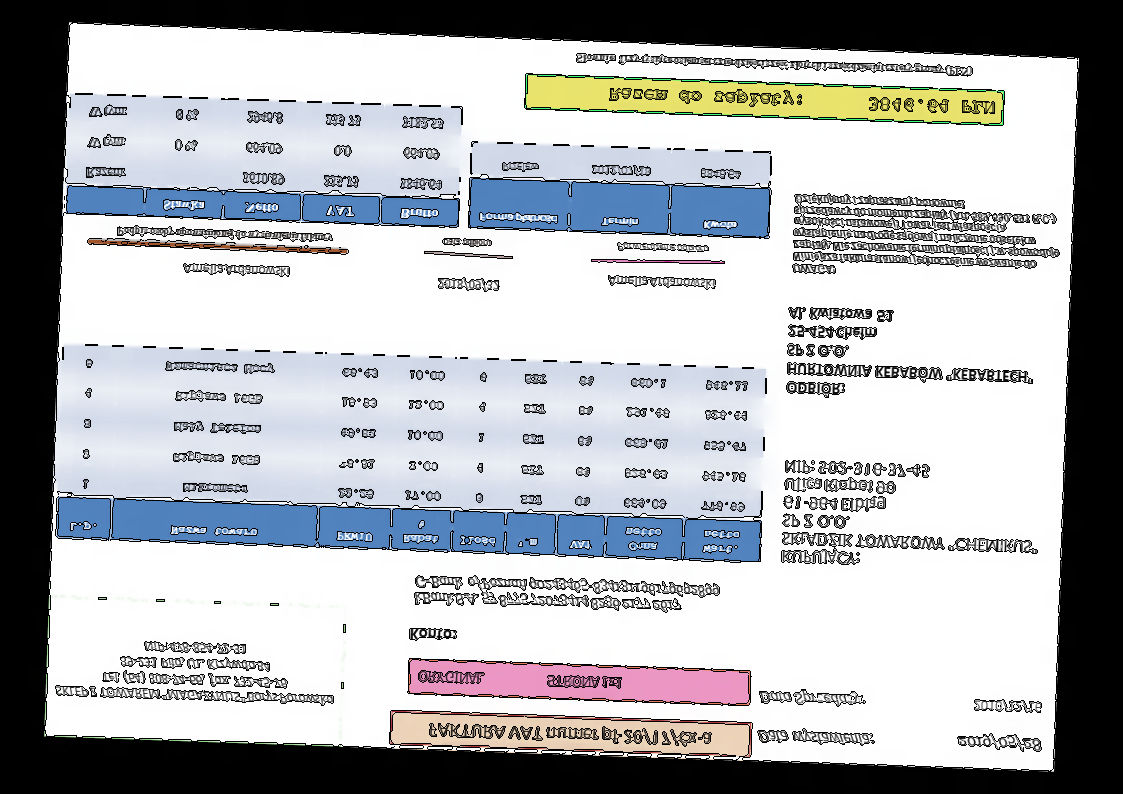Table: (54, 343, 768, 564), (64, 93, 462, 229), (467, 141, 772, 239)
TextBox: (778, 457, 1043, 575), (784, 304, 1039, 406), (790, 193, 1063, 285), (53, 636, 337, 709), (411, 571, 723, 617), (606, 83, 997, 117), (574, 51, 973, 79), (427, 719, 714, 750), (417, 668, 624, 692), (115, 224, 333, 246), (756, 725, 875, 751), (757, 688, 867, 709), (182, 260, 291, 279), (955, 731, 1043, 754), (606, 274, 716, 291), (615, 240, 710, 256), (971, 698, 1043, 715), (436, 276, 500, 293), (407, 625, 457, 645), (440, 236, 491, 250)
